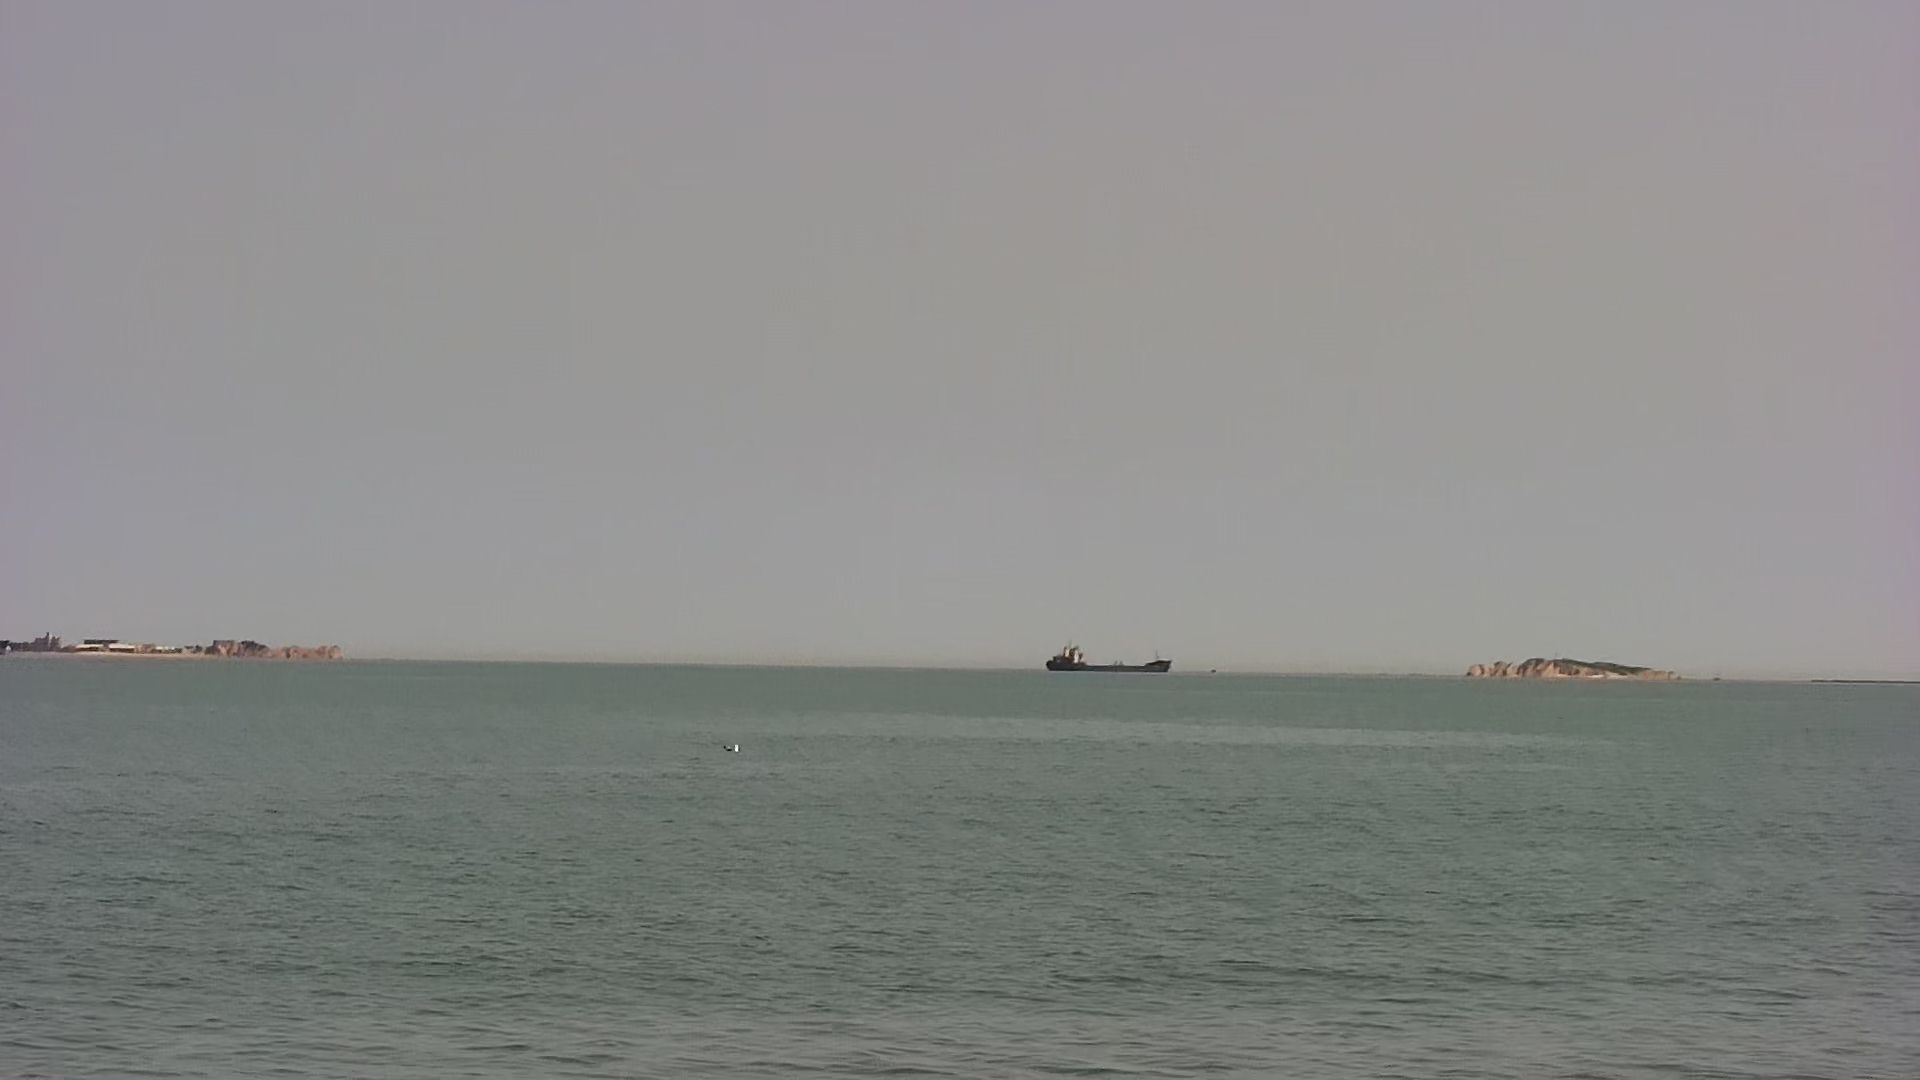rock: (1, 624, 352, 665), (1460, 644, 1701, 694)
ship: (1030, 645, 1180, 683)
